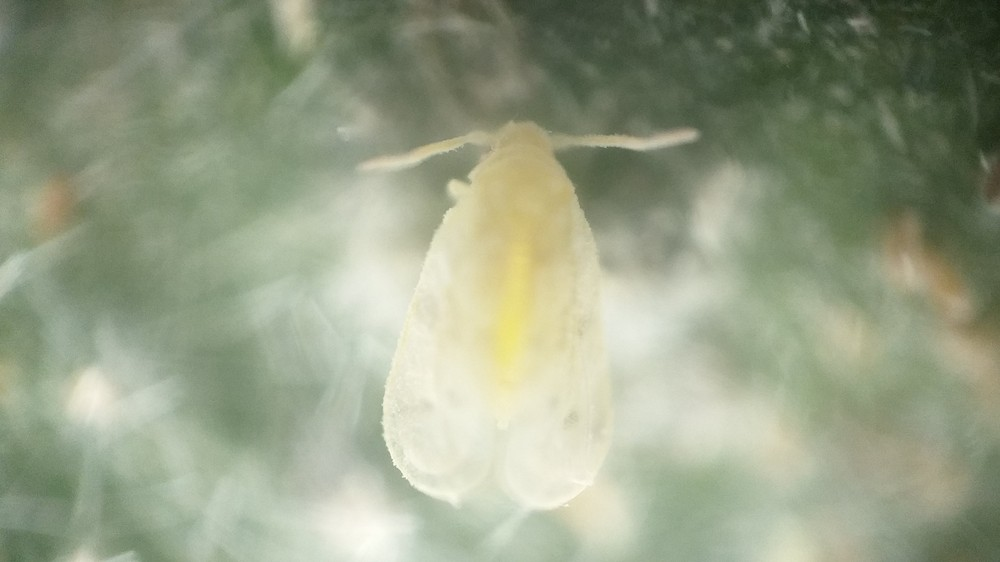Mosca Blanca: (329, 109, 747, 521)
